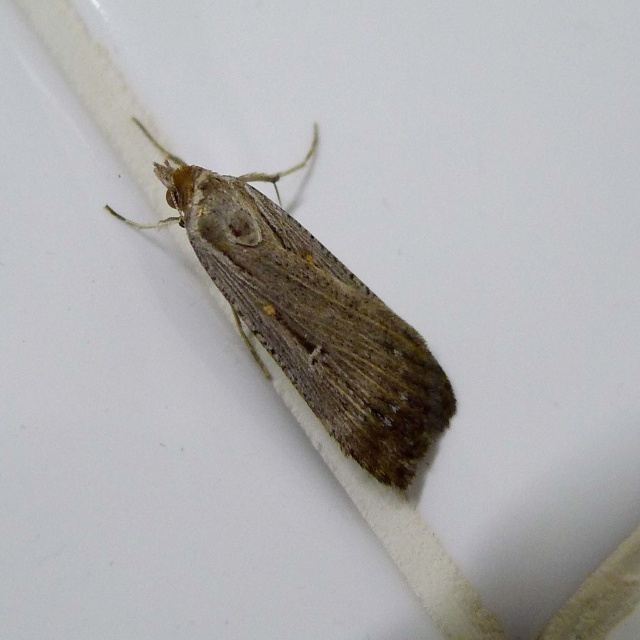Moths and butterflies: (99, 115, 460, 508)
